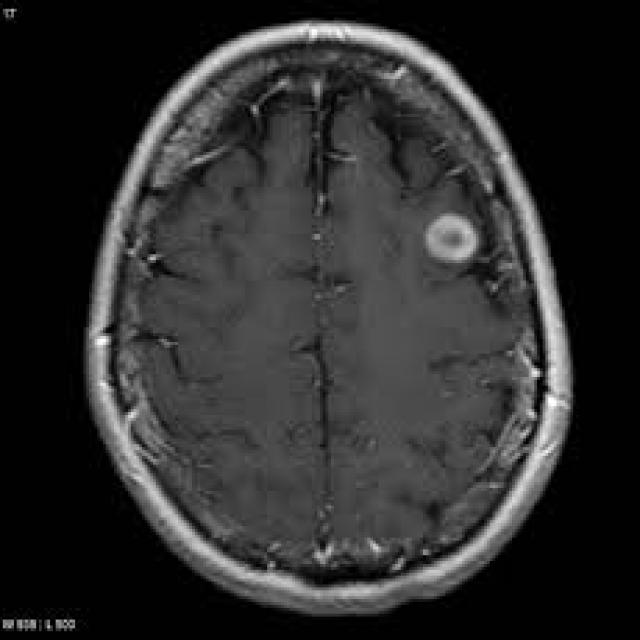Tumor-Cell: (410, 188, 480, 271)
